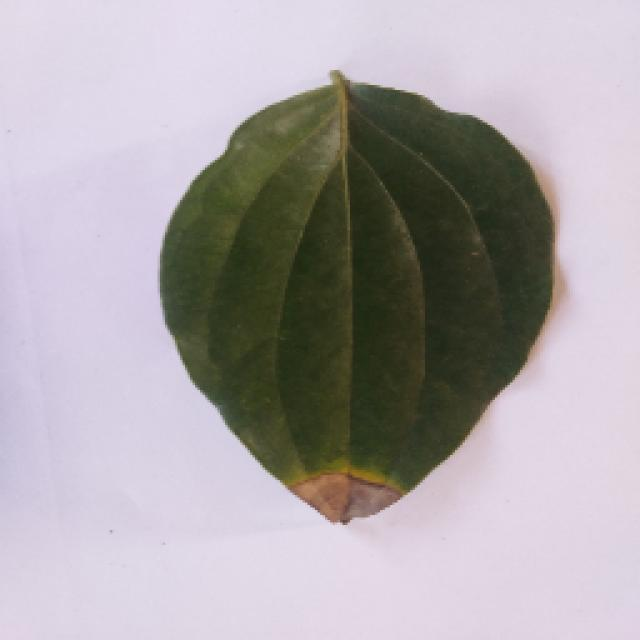footrot: (145, 62, 573, 520)
